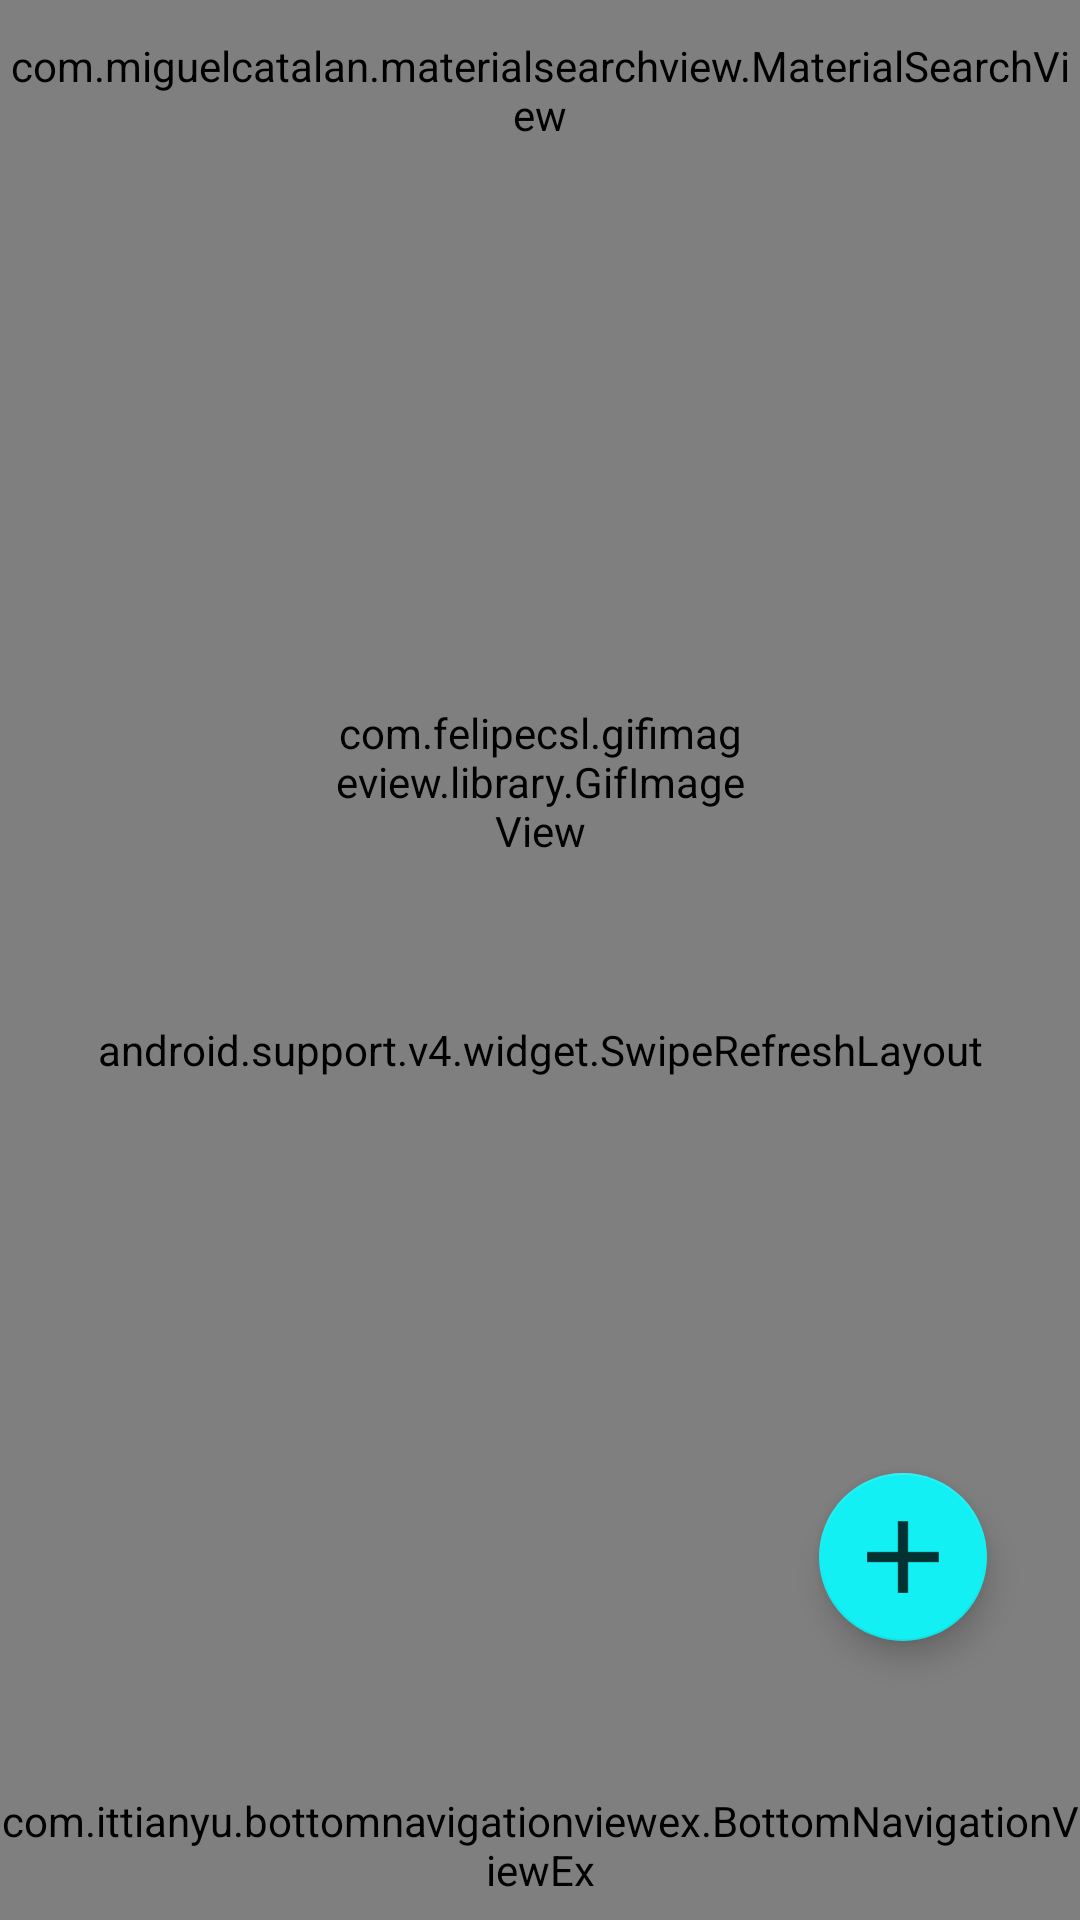

Icons on this 1080px x 1920px Android screen, each with its box as (x1, y1, x2, y2):
plus: (819, 1473, 987, 1641)
